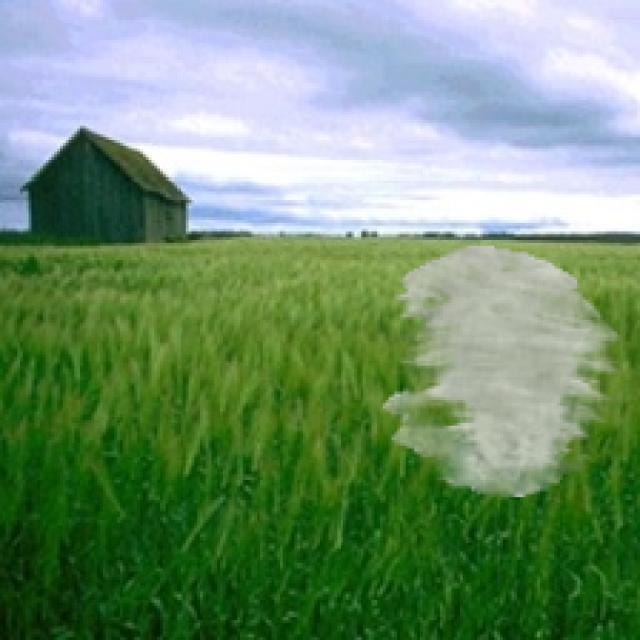Smoke: (383, 246, 623, 497)
